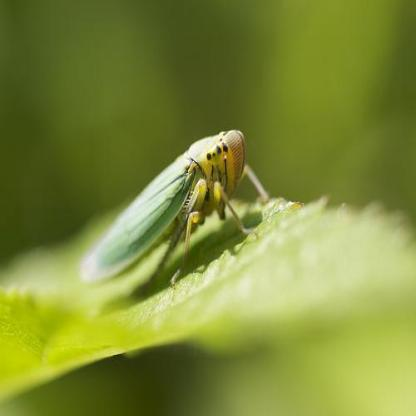Green-Leafhopper: (82, 129, 270, 298)
